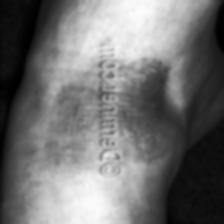Non-Cancerous Skin Condition: (117, 48, 190, 145), (38, 65, 88, 172)
